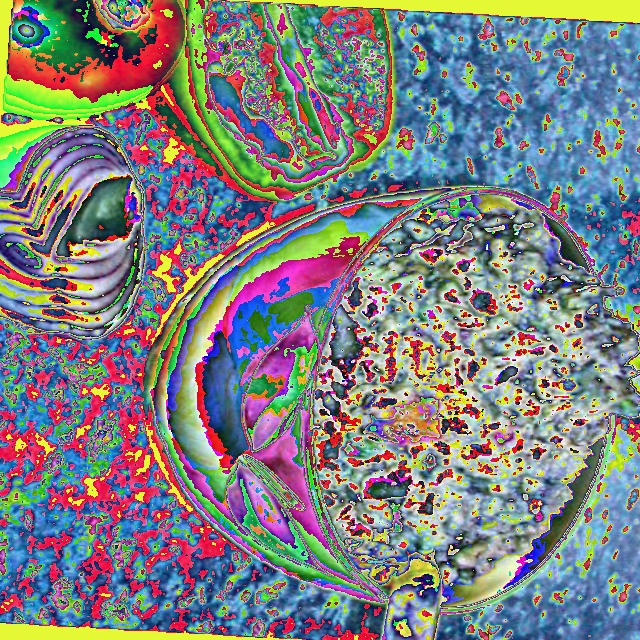background: (314, 207, 639, 591), (4, 0, 399, 202), (0, 123, 150, 341)
